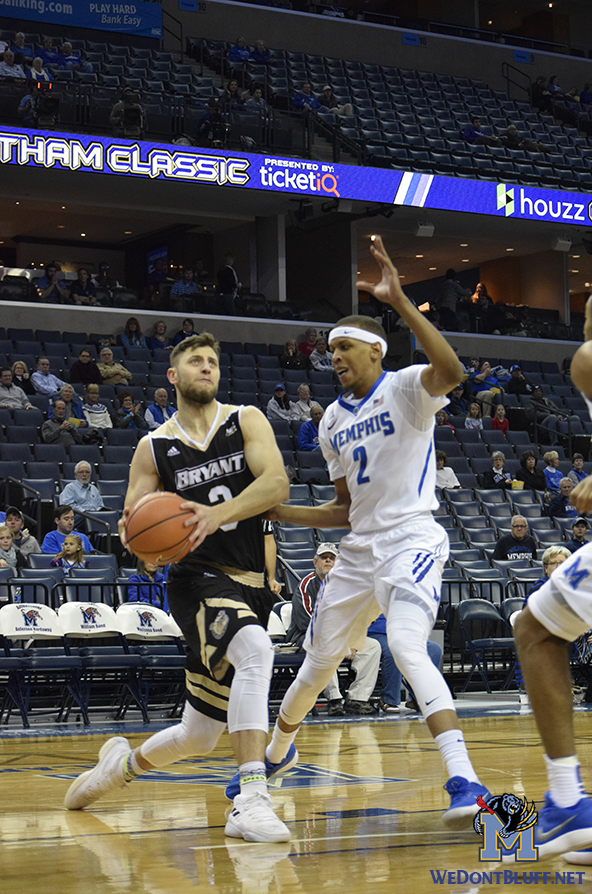ball: (122, 492, 198, 565)
player: (227, 250, 491, 822), (61, 334, 292, 843), (519, 297, 592, 849)
